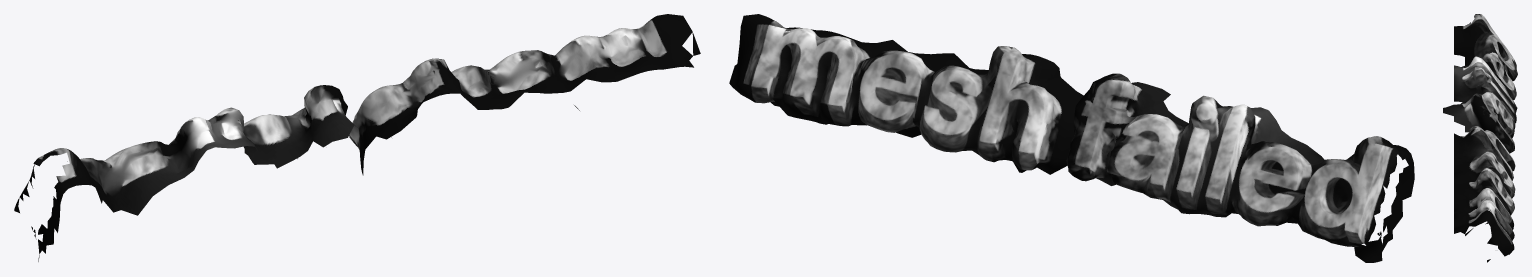
Rendered from 129737-JJOffice1-tex.glb.
3 views of the same model, side by side, from view 1: azimuth 30°, elevation 25°; view 2: azimuth 150°, elevation 25°; view 3: azimuth 270°, elevation 25° (orthographic). The views are drawn at different scales.
Parts seen in each view (by area): view 1: Node; view 2: Node; view 3: Node.
Boxes of the visible parts, <box> form: Node: <box>14,14,700,261</box>; Node: <box>729,14,1414,262</box>; Node: <box>1443,14,1517,262</box>.
Bounding box in the file's own units: 4.81 × 0.817 × 0.7754.
Materials: 1 (1 with a texture image).
